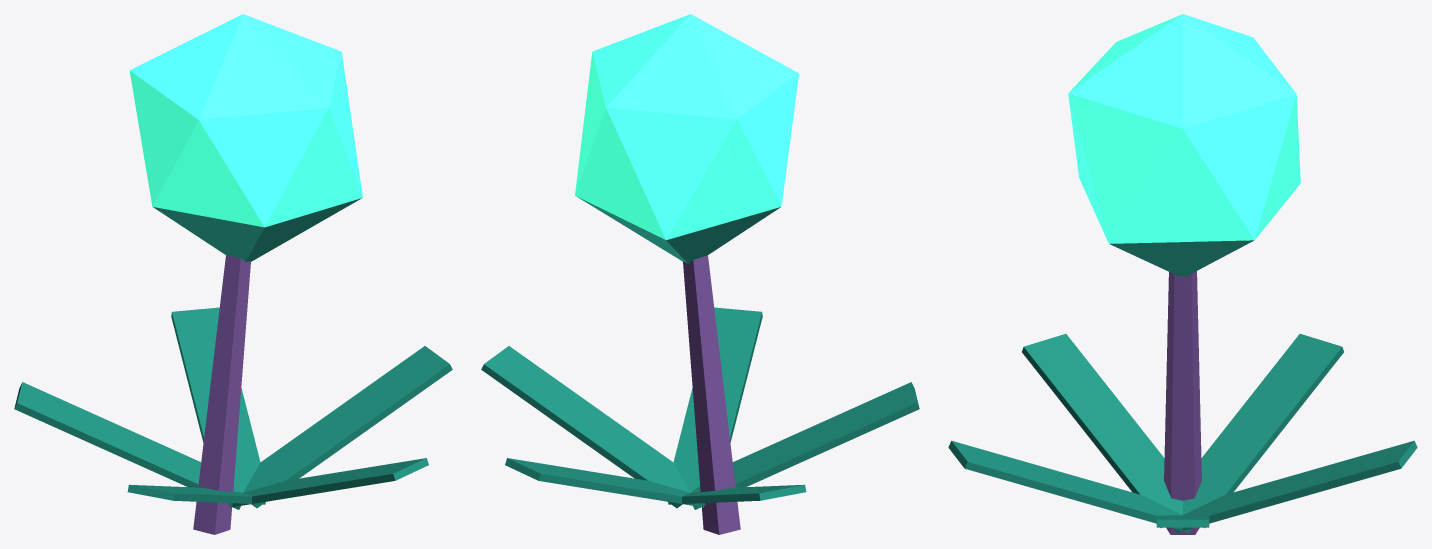
File: Alien_Bulb_Plant.glb
3 views of the same model, side by side, from view 1: azimuth 30°, elevation 25°; view 2: azimuth 150°, elevation 25°; view 3: azimuth 270°, elevation 25° (orthographic). The views are drawn at different scales.
Parts seen in each view (by area): view 1: Alien_Bulb_Plant; view 2: Alien_Bulb_Plant; view 3: Alien_Bulb_Plant.
Boxes of the visible parts, x1,y1,x2,y2 form: Alien_Bulb_Plant: (14, 14, 452, 534); Alien_Bulb_Plant: (481, 14, 919, 534); Alien_Bulb_Plant: (948, 14, 1417, 534).
Size of the model in its own units: 1.7 by 2.23 by 1.79.
Materials: 1 (1 with a texture image).
